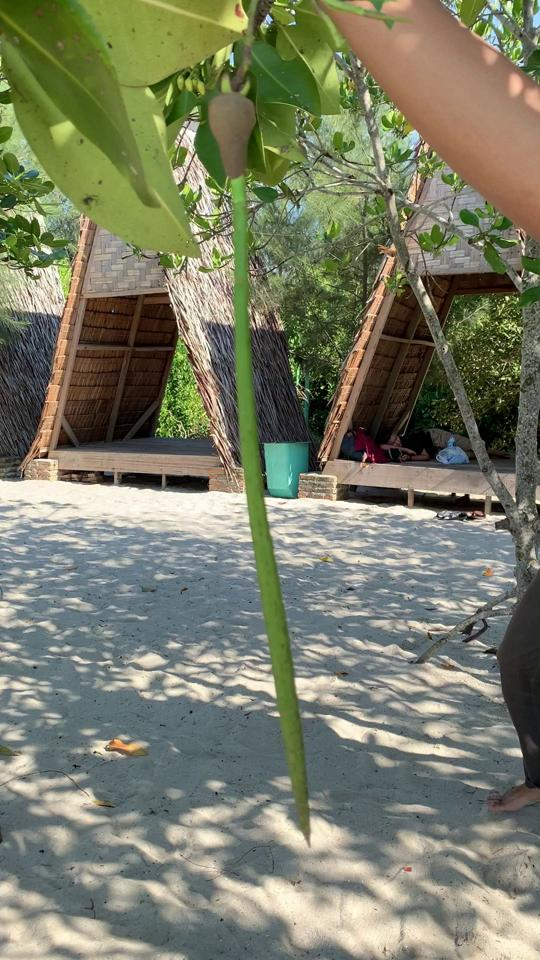setengah matang: (177, 74, 326, 853)
